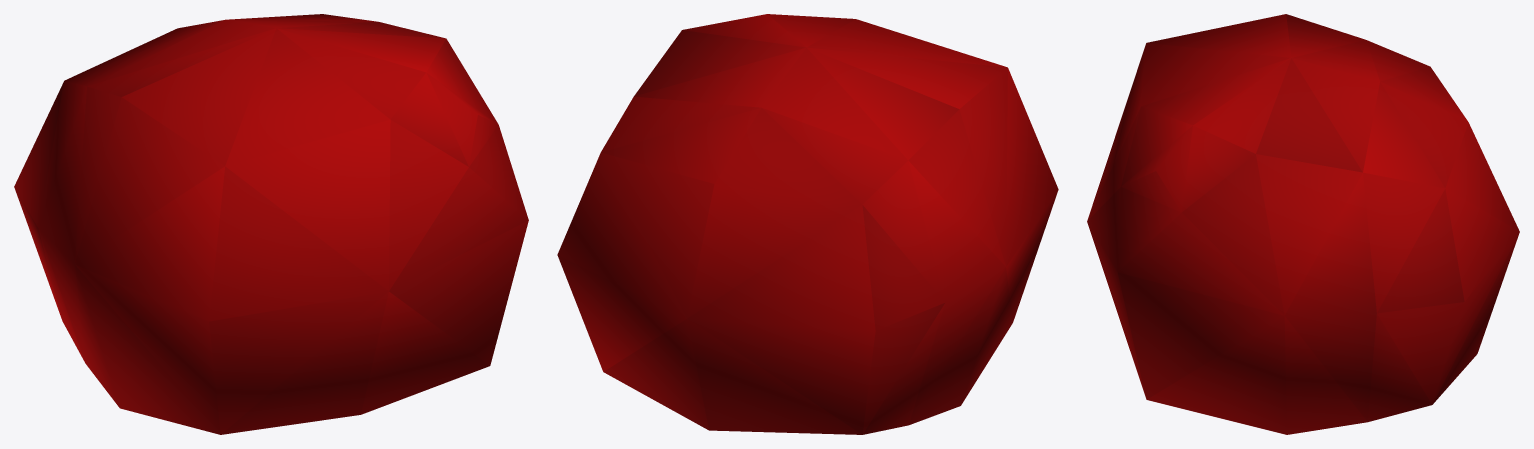
The model's file is geology-pebbles-smallsandchunk_v4.fbx.
The picture shows the model from 3 angles, left to right: view 1: azimuth 30°, elevation 25°; view 2: azimuth 150°, elevation 25°; view 3: azimuth 270°, elevation 25°; orthographic projection. The views are drawn at different scales.
Visible parts, largest first — view 1: SmallSandChunk_v4; view 2: SmallSandChunk_v4; view 3: SmallSandChunk_v4.
Part boxes in pixels (bbox=[...]): SmallSandChunk_v4: bbox=[14, 14, 528, 434]; SmallSandChunk_v4: bbox=[557, 14, 1058, 434]; SmallSandChunk_v4: bbox=[1087, 14, 1519, 434].
Bounding box in the file's own units: 2.79 × 2.42 × 2.82.
